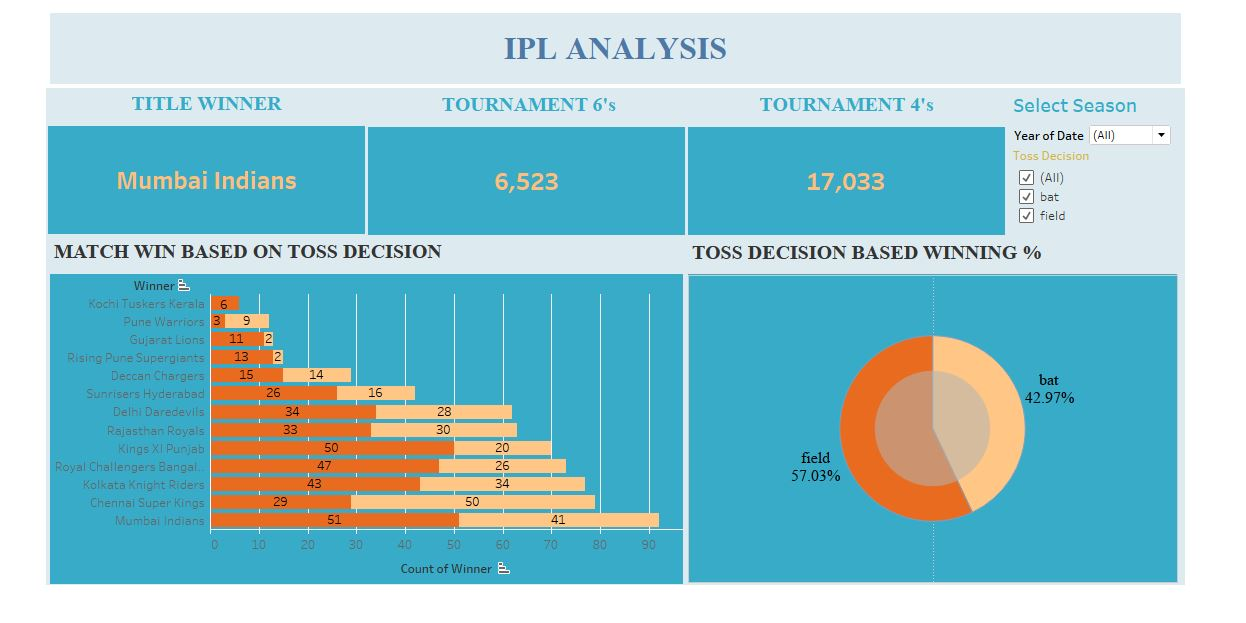

This screenshot's page, from the dashboard's own definition file:
{"tool":"tableau","page":{"name":"Dashboard 1","canvas":[1155,592],"ordinal":0},"visuals":[{"type":"title","box":[8,8,1139,79]},{"type":"worksheet","title":"SELECT SEASON","mark":"Automatic","box":[971,86,174,147]},{"type":"image","box":[8,87,1139,497]},{"type":"worksheet","title":"Match winner","mark":"Automatic","box":[10,87,317,146]},{"type":"worksheet","title":"Tournament 6's","mark":"Automatic","box":[330,88,317,146]},{"type":"worksheet","title":"Tournament 4's","mark":"Automatic","box":[650,88,317,146]},{"type":"blank","box":[262,92,884,153]},{"type":"filter","title":"Match winner","param":"[federated.0svzveg0hc3zn818anhbk0r5lczq].[yr:date:ok]","box":[976,124,160,21]},{"type":"filter","title":"Match win based on toss decision","param":"[federated.0svzveg0hc3zn818anhbk0r5lczq].[none:toss_decision:nk]","box":[975,146,160,79]},{"type":"worksheet","title":"Match win based on toss decision","mark":"Automatic","rows":["winner"],"cols":["winner"],"box":[12,235,633,348]},{"type":"worksheet","title":"Toss decision based winning %","mark":"Pie","cols":["Calculation_1055590151725135","Calculation_1055590151815249"],"box":[650,236,490,346]}]}

Visuals, with their boxes in screenshot pixels (x1, y1, x2, y2), scaled from the page's 1155x592 canvas onto the 1246x623 screenshot:
title: rect(9, 8, 1237, 92)
"SELECT SEASON" worksheet: rect(1048, 91, 1235, 245)
image: rect(9, 92, 1237, 615)
"Match winner" worksheet: rect(11, 92, 353, 245)
"Tournament 6's" worksheet: rect(356, 93, 698, 246)
"Tournament 4's" worksheet: rect(701, 93, 1043, 246)
blank: rect(283, 97, 1236, 258)
"Match winner" filter: rect(1053, 130, 1226, 153)
"Match win based on toss decision" filter: rect(1052, 154, 1224, 237)
"Match win based on toss decision" worksheet: rect(13, 247, 696, 614)
"Toss decision based winning %" worksheet (Pie marks): rect(701, 248, 1230, 612)
